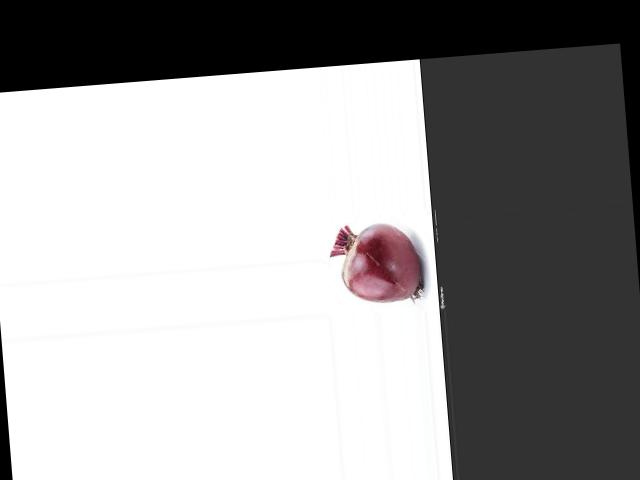beet: (328, 219, 423, 306)
